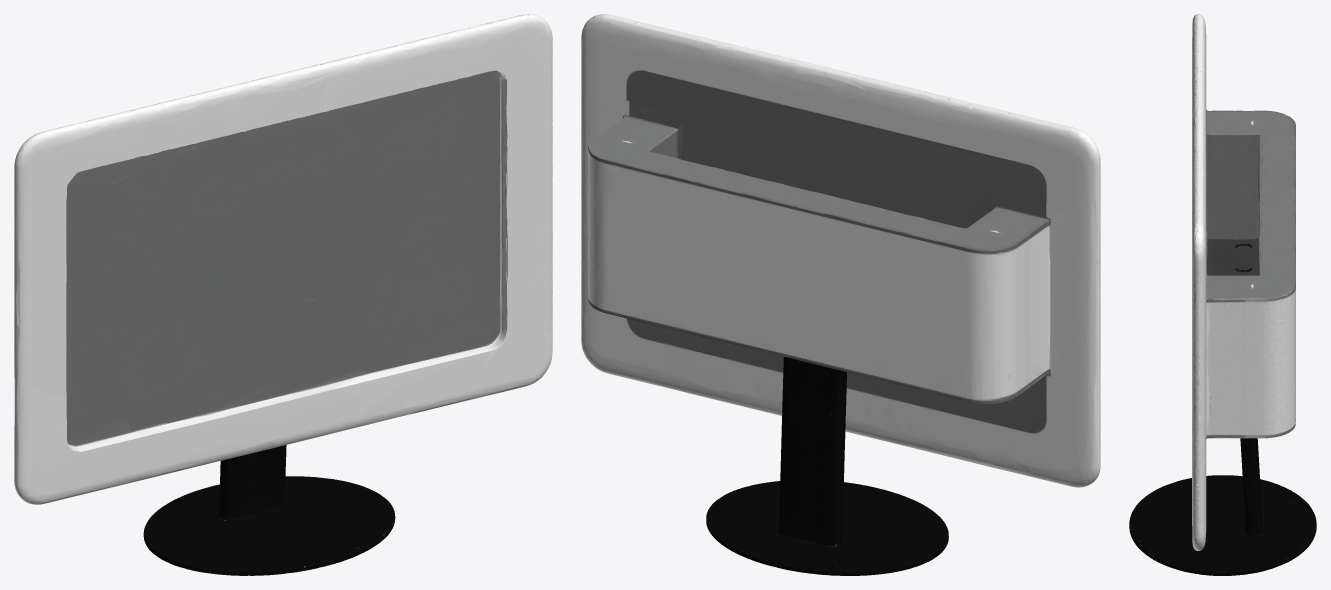
File: monitor-meshy6-web-v2.glb
3 renders of one model, left to right at view 1: azimuth 30°, elevation 25°; view 2: azimuth 150°, elevation 25°; view 3: azimuth 270°, elevation 25°, orthographic. The views are drawn at different scales.
Size of the model in its own units: 1.9 by 1.57 by 0.6535.
Materials: 1 (1 with a texture image).
